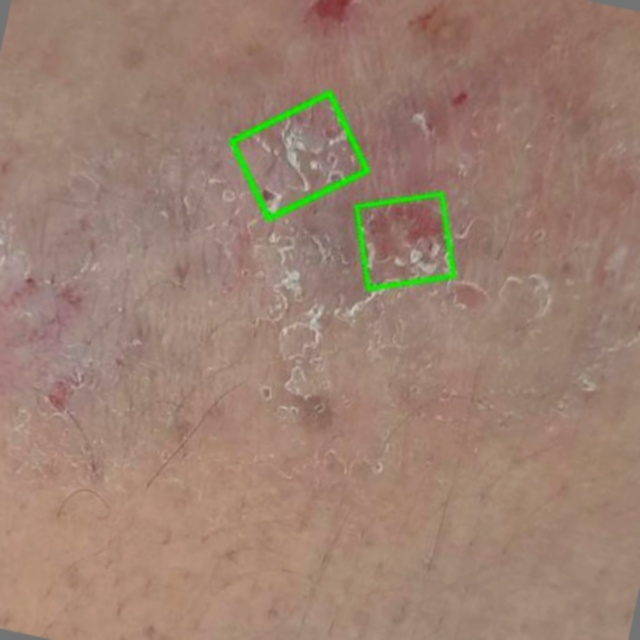Tinea Corporis: (231, 93, 366, 217), (356, 193, 453, 288)
